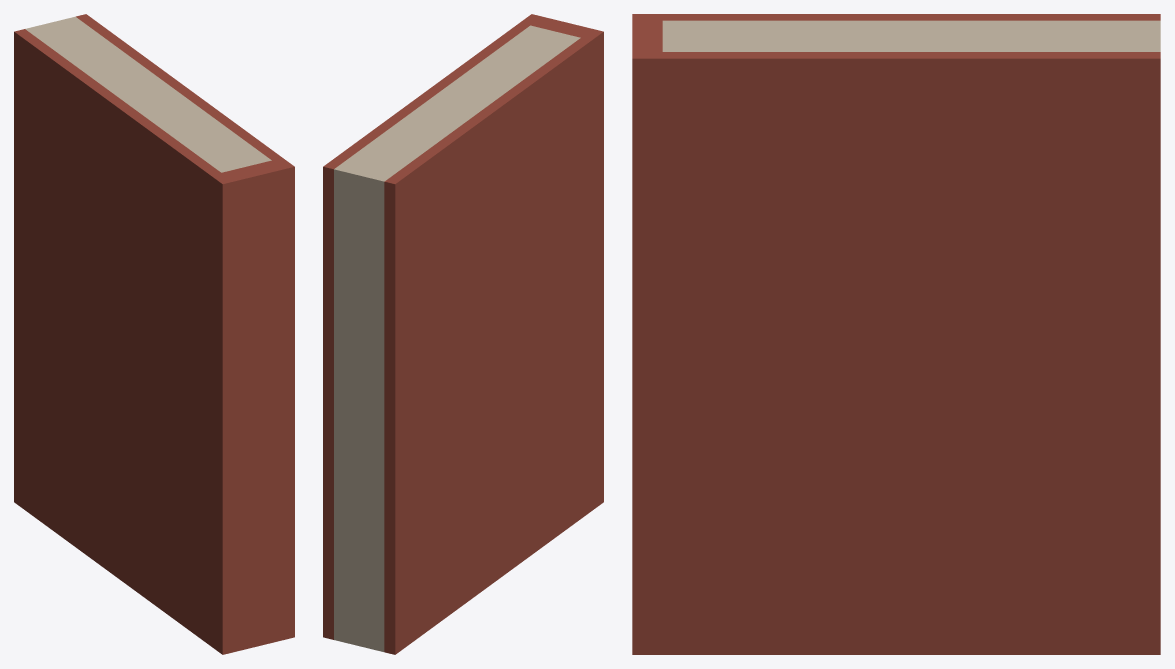
File: SM_Prop_Book_03.fbx
The picture shows the model from 3 angles, left to right: view 1: azimuth 30°, elevation 25°; view 2: azimuth 150°, elevation 25°; view 3: azimuth 270°, elevation 25°; orthographic projection. The views are drawn at different scales.
Parts seen in each view (by area): view 1: SM_Prop_Book_03; view 2: SM_Prop_Book_03; view 3: SM_Prop_Book_03.
Part boxes in pixels (x1=…): SM_Prop_Book_03: x1=14, y1=14, x2=294, y2=654; SM_Prop_Book_03: x1=323, y1=14, x2=603, y2=654; SM_Prop_Book_03: x1=632, y1=14, x2=1160, y2=654.
Size of the model in its own units: 5.73 by 35.7 by 28.68.
